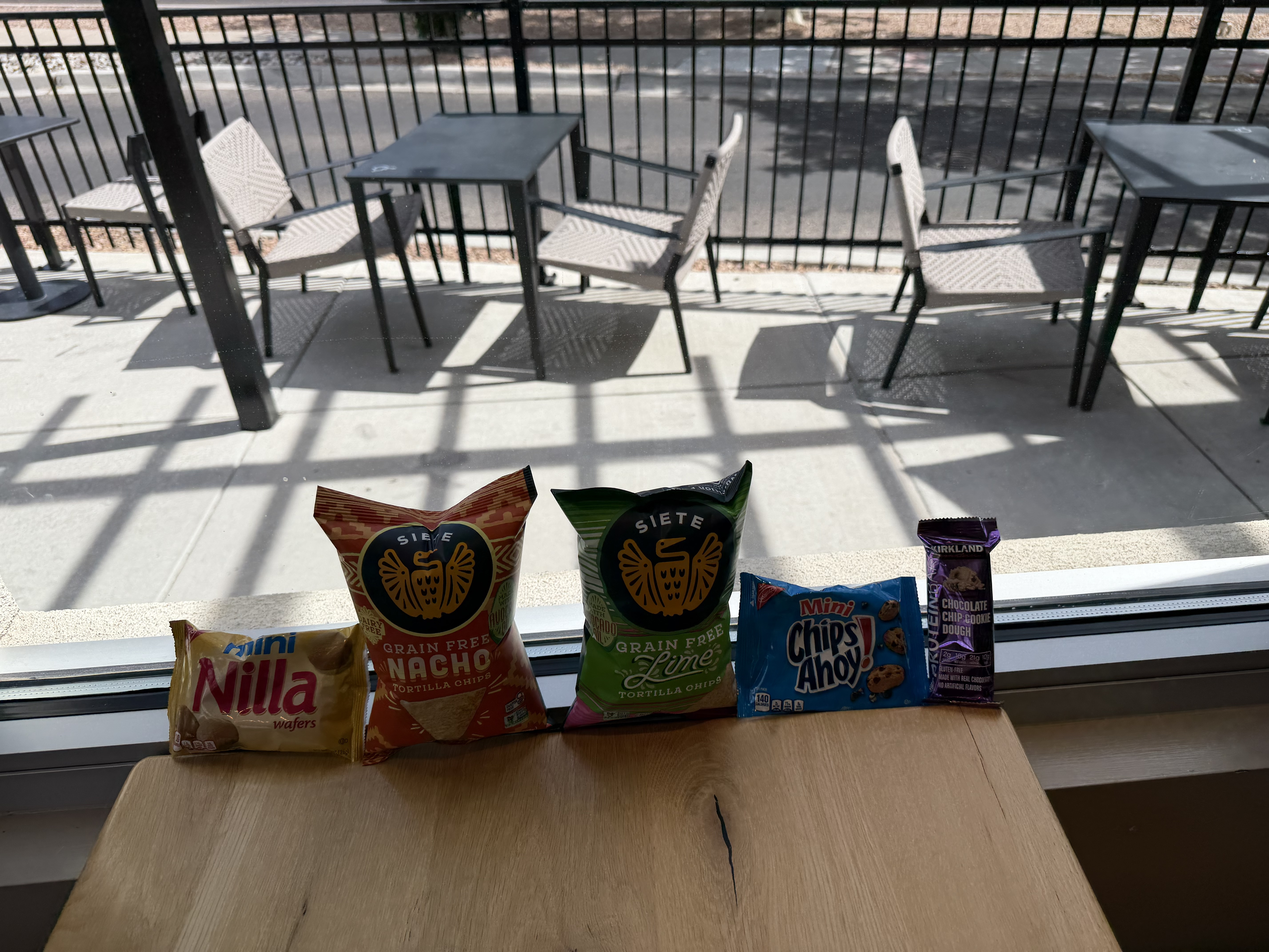chips_ahoy: (736, 571, 919, 720)
chocolate_chip_cookie_dough: (910, 511, 1029, 729)
lime: (569, 460, 758, 743)
nacho: (311, 462, 568, 759)
nilla: (161, 608, 371, 769)
